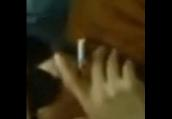Cigarette: (77, 38, 85, 70)
